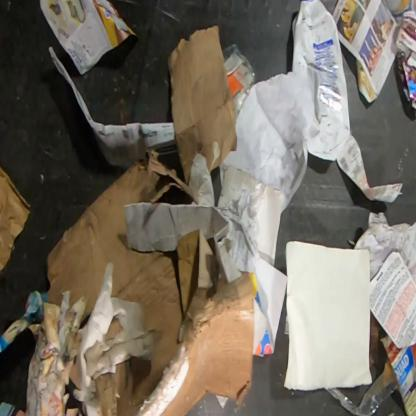cardboard: (46, 149, 259, 415), (168, 24, 236, 186), (292, 0, 350, 162), (0, 165, 32, 273), (381, 336, 415, 415)
soft_plastic: (326, 355, 400, 415), (221, 43, 256, 115)
